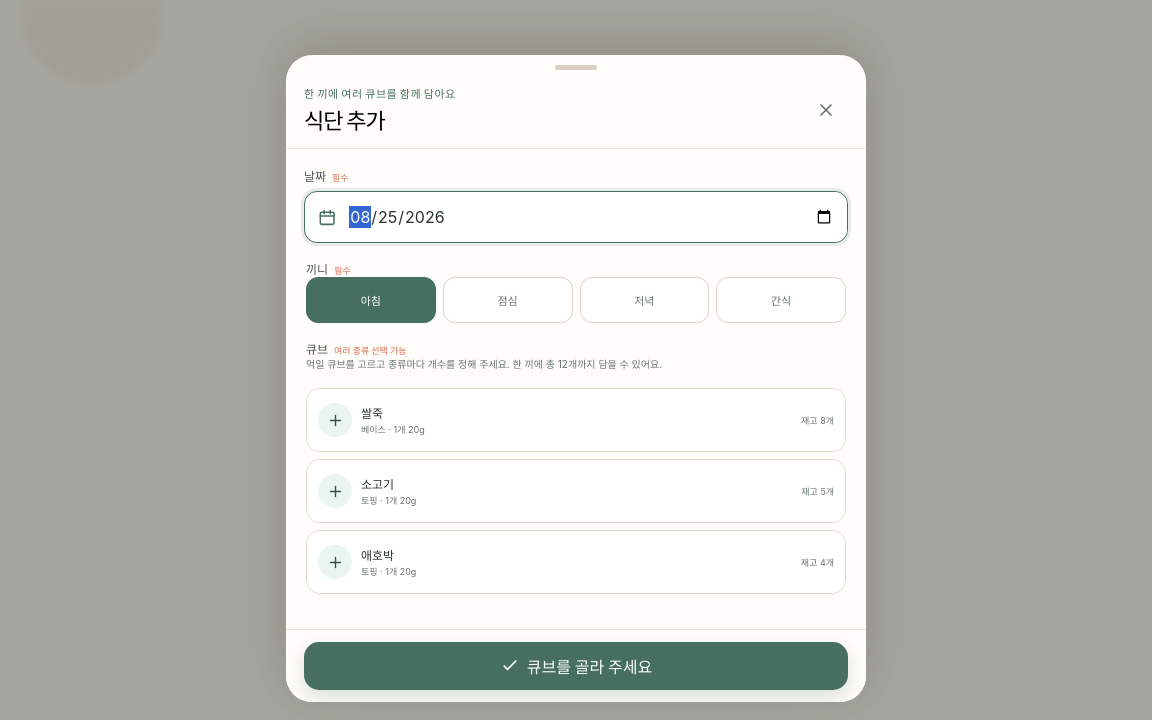
Test: 식단 추가 시트 › 선택이 없으면 저장하지 않고 안내한다
Click the button "큐브를 골라 주세요" at (576, 666), box [304, 642, 848, 690]
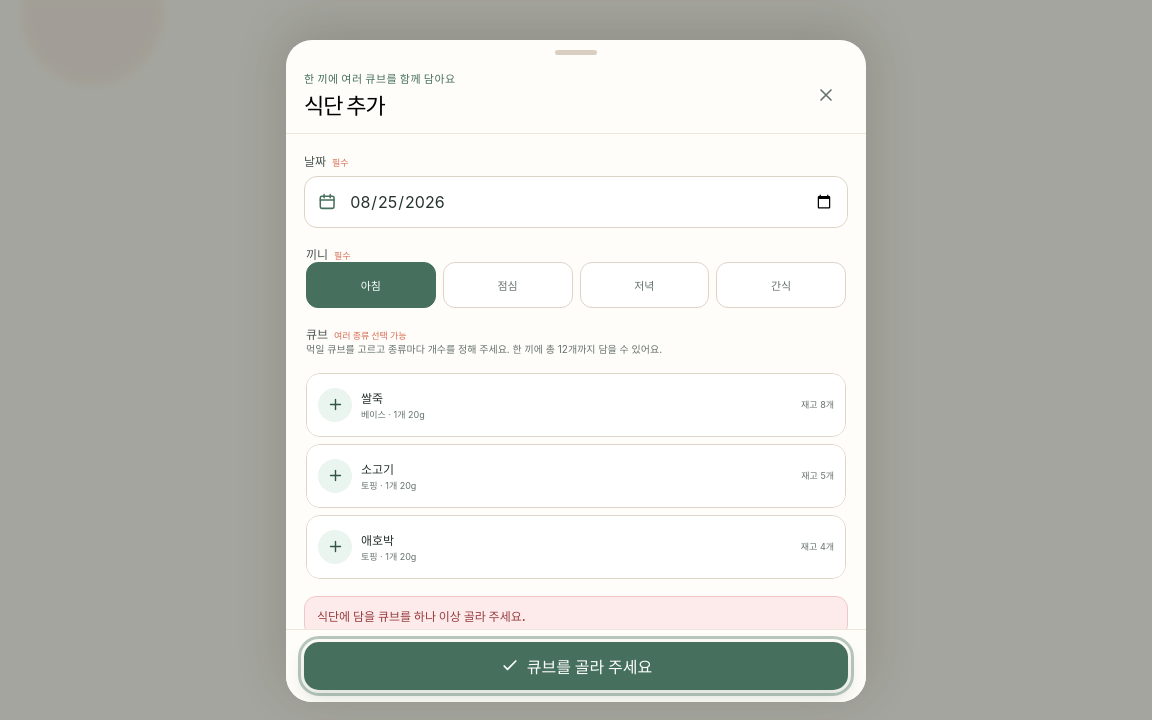
Expected: the message reads "식단에 담을 큐브를 하나 이상 골라 주세요.", [317, 609, 526, 624]
